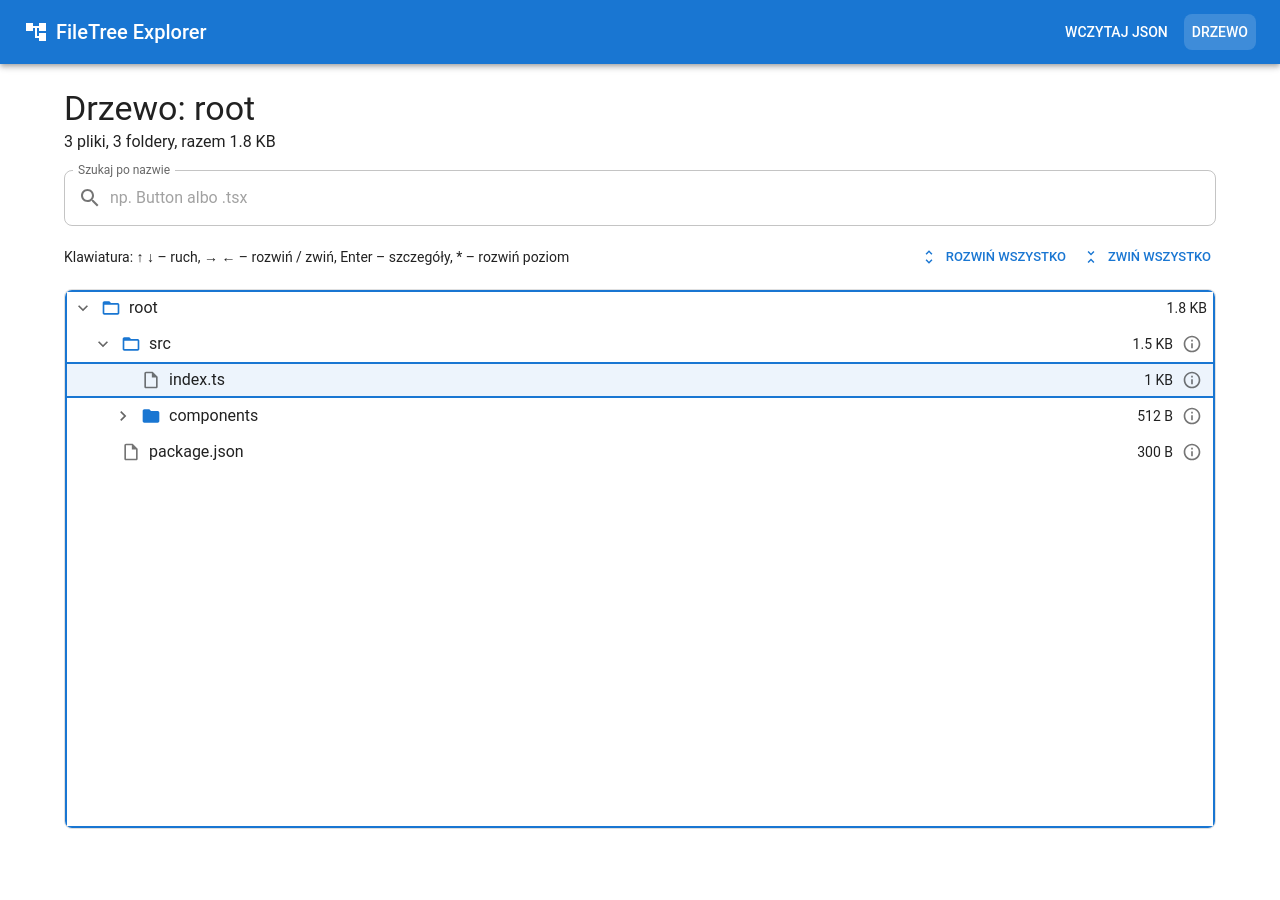
TreePage › keeps focus on a folder that the user expands again
Click the button "Zwiń wszystko": (1147, 257) 1079,242 -> 1216,273
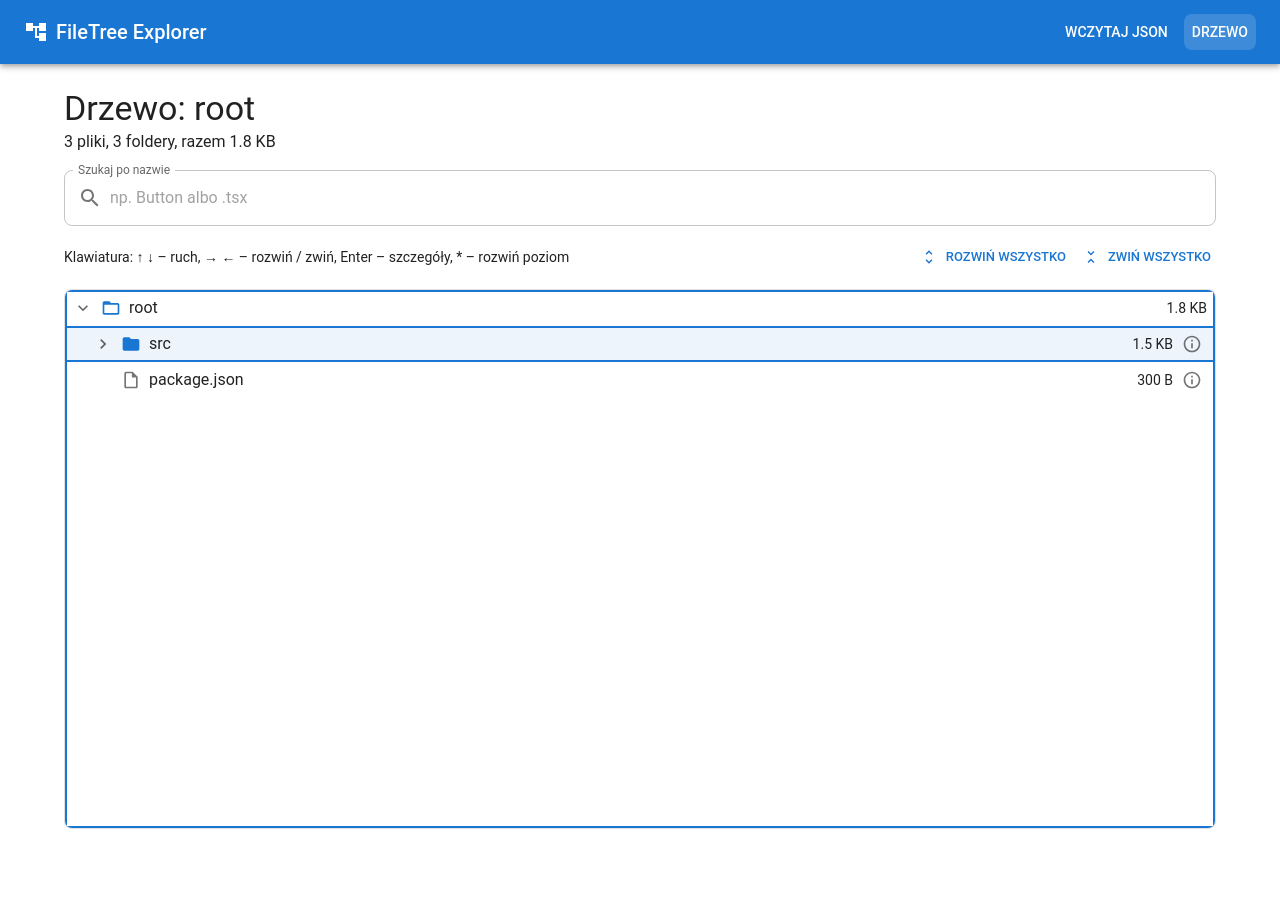
Press Arrowright
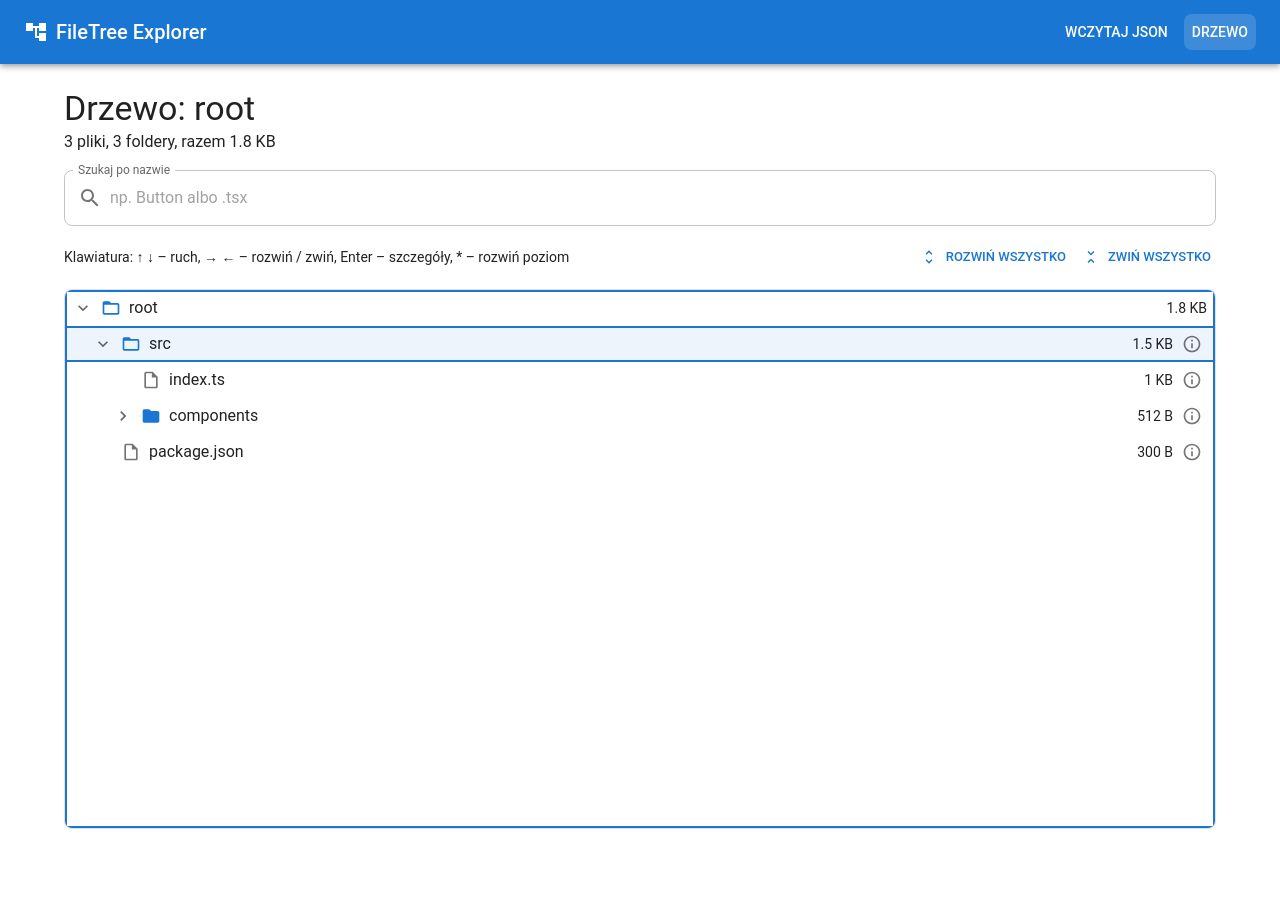
Now the list item "src 1.5 KB" is expanded, box 65,326 -> 1215,362
